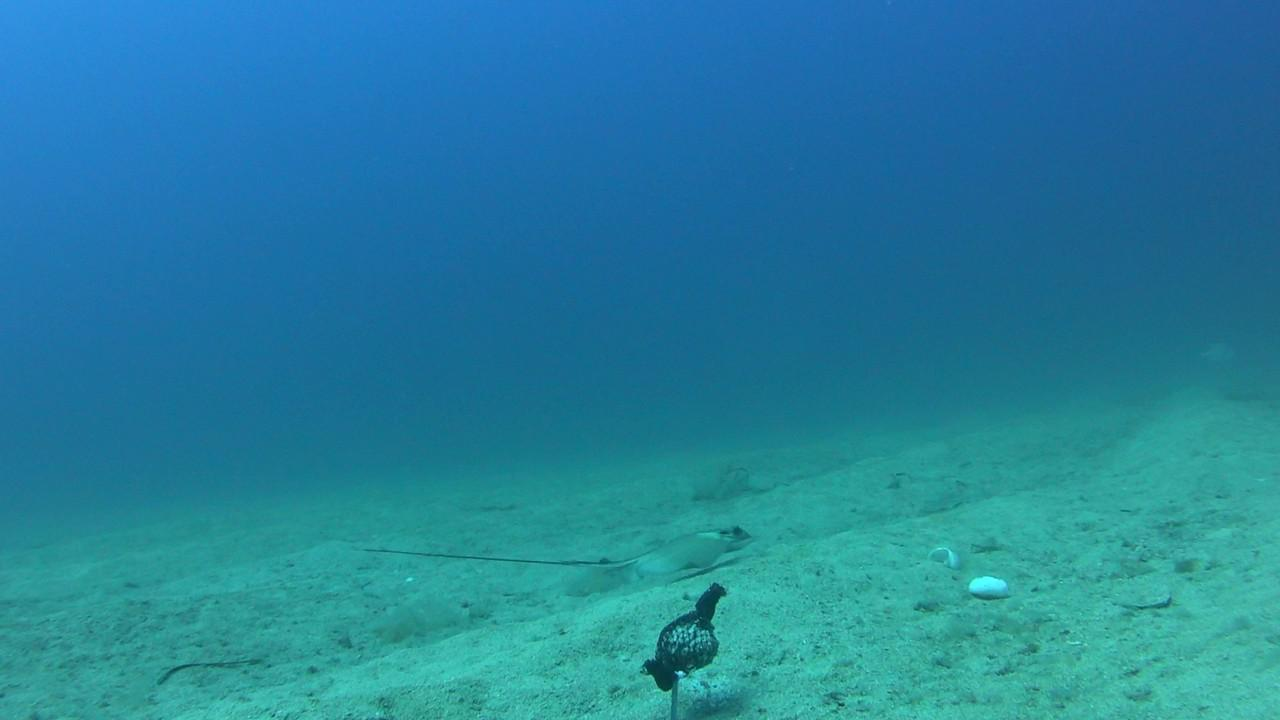myliobatis: (341, 521, 762, 585)
